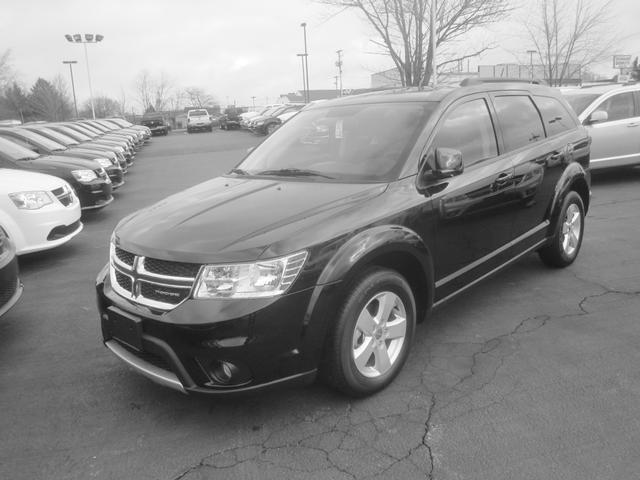car: (96, 86, 593, 404)
